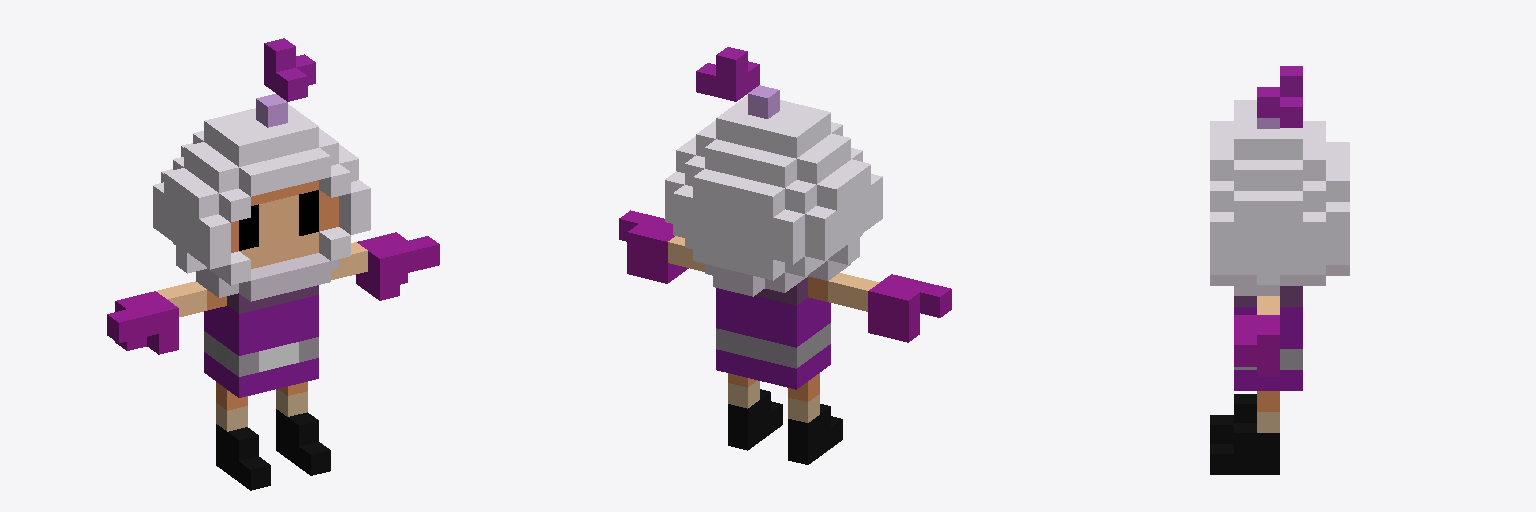
3 renders of one model, left to right at view 1: azimuth 30°, elevation 25°; view 2: azimuth 150°, elevation 25°; view 3: azimuth 270°, elevation 25°, orthographic.
Bounding box in the file's own units: 16 × 19 × 6.
1 materials, 1 textured.